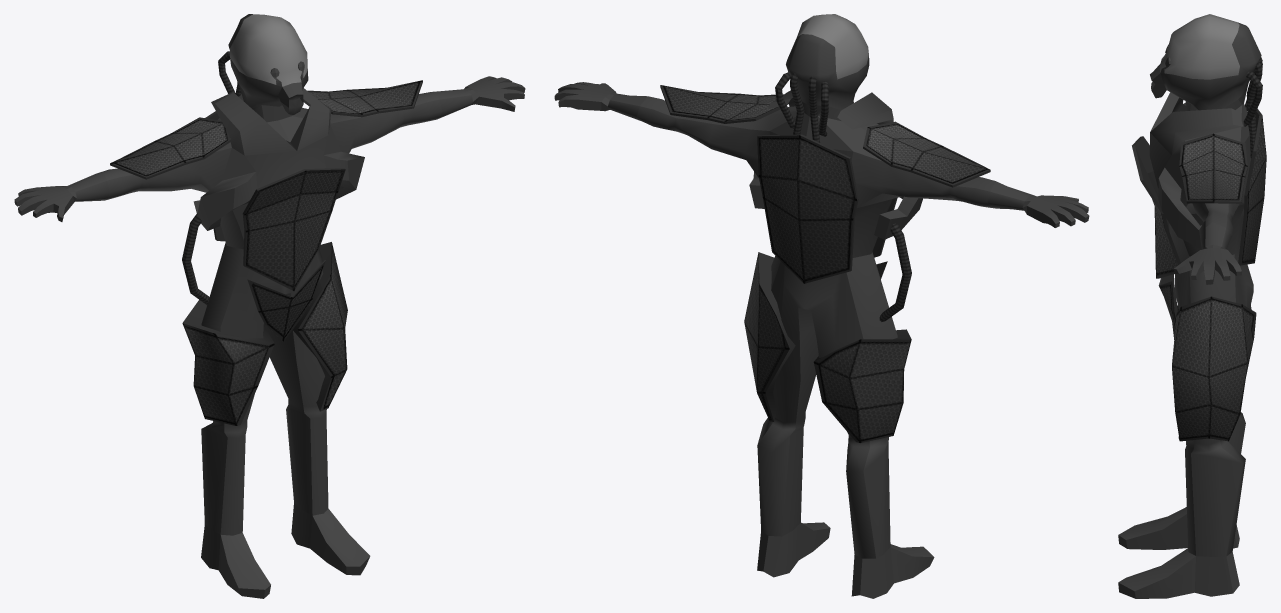
File: enemy_cyborg.fbx
The picture shows the model from 3 angles, left to right: view 1: azimuth 30°, elevation 25°; view 2: azimuth 150°, elevation 25°; view 3: azimuth 270°, elevation 25°; orthographic projection. The views are drawn at different scales.
Visible parts, largest first — view 1: cyborg_body, cyborg_bodyarmor_2, cyborg_footarmor_1, cyborg_footarmor_2, cyborg_head_glass, cyborg_armarmor_2, cyborg_armarmor_1, cyborg_bodyarmor_1, cyborg_pipe5; view 2: cyborg_body, cyborg_bodyarmor_3, cyborg_footarmor_1, cyborg_footarmor_2, cyborg_armarmor_2, cyborg_armarmor_1, cyborg_head_glass, cyborg_pipe5; view 3: cyborg_body, cyborg_footarmor_2, cyborg_armarmor_1, cyborg_head_glass, cyborg_bodyarmor_3, cyborg_bodyarmor_2, cyborg_bodyarmor_1, cyborg_pipe1, cyborg_pipe4.
Boxes of the visible parts, bbox=[...] form: cyborg_body: bbox=[14, 14, 525, 598]; cyborg_bodyarmor_2: bbox=[242, 168, 345, 290]; cyborg_footarmor_1: bbox=[182, 300, 274, 425]; cyborg_footarmor_2: bbox=[293, 242, 347, 411]; cyborg_head_glass: bbox=[230, 14, 307, 86]; cyborg_armarmor_2: bbox=[110, 117, 231, 179]; cyborg_armarmor_1: bbox=[307, 80, 422, 117]; cyborg_bodyarmor_1: bbox=[247, 260, 325, 341]; cyborg_pipe5: bbox=[182, 213, 209, 305]; cyborg_body: bbox=[554, 34, 1089, 598]; cyborg_bodyarmor_3: bbox=[757, 134, 858, 283]; cyborg_footarmor_1: bbox=[813, 329, 911, 442]; cyborg_footarmor_2: bbox=[744, 252, 795, 421]; cyborg_armarmor_2: bbox=[863, 121, 990, 187]; cyborg_armarmor_1: bbox=[660, 85, 783, 123]; cyborg_head_glass: bbox=[797, 14, 868, 79]; cyborg_pipe5: bbox=[879, 223, 911, 321]; cyborg_body: bbox=[1118, 22, 1261, 598]; cyborg_footarmor_2: bbox=[1172, 296, 1256, 441]; cyborg_armarmor_1: bbox=[1179, 133, 1247, 203]; cyborg_head_glass: bbox=[1159, 14, 1239, 79]; cyborg_bodyarmor_3: bbox=[1238, 108, 1266, 265]; cyborg_bodyarmor_2: bbox=[1132, 136, 1180, 278]; cyborg_bodyarmor_1: bbox=[1158, 274, 1177, 329]; cyborg_pipe1: bbox=[1246, 61, 1262, 157]; cyborg_pipe4: bbox=[1243, 71, 1262, 126].
Bounding box in the file's own units: 1.97 × 2.01 × 0.4902.
Materials: 5 (3 with a texture image).
